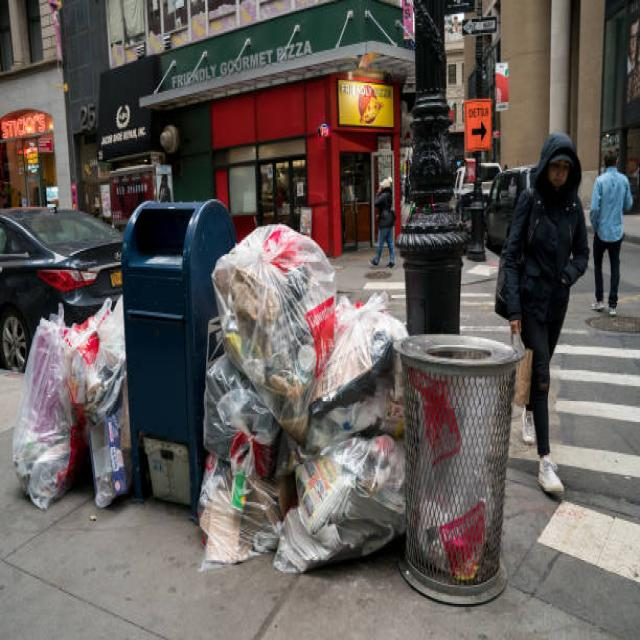metal: (411, 329, 532, 612)
trash: (224, 231, 402, 563), (21, 314, 126, 496)
